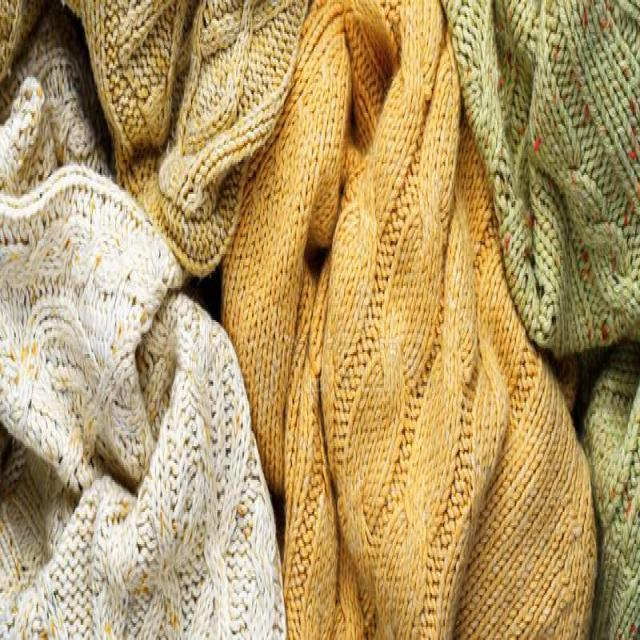clothes: (32, 196, 276, 627)
